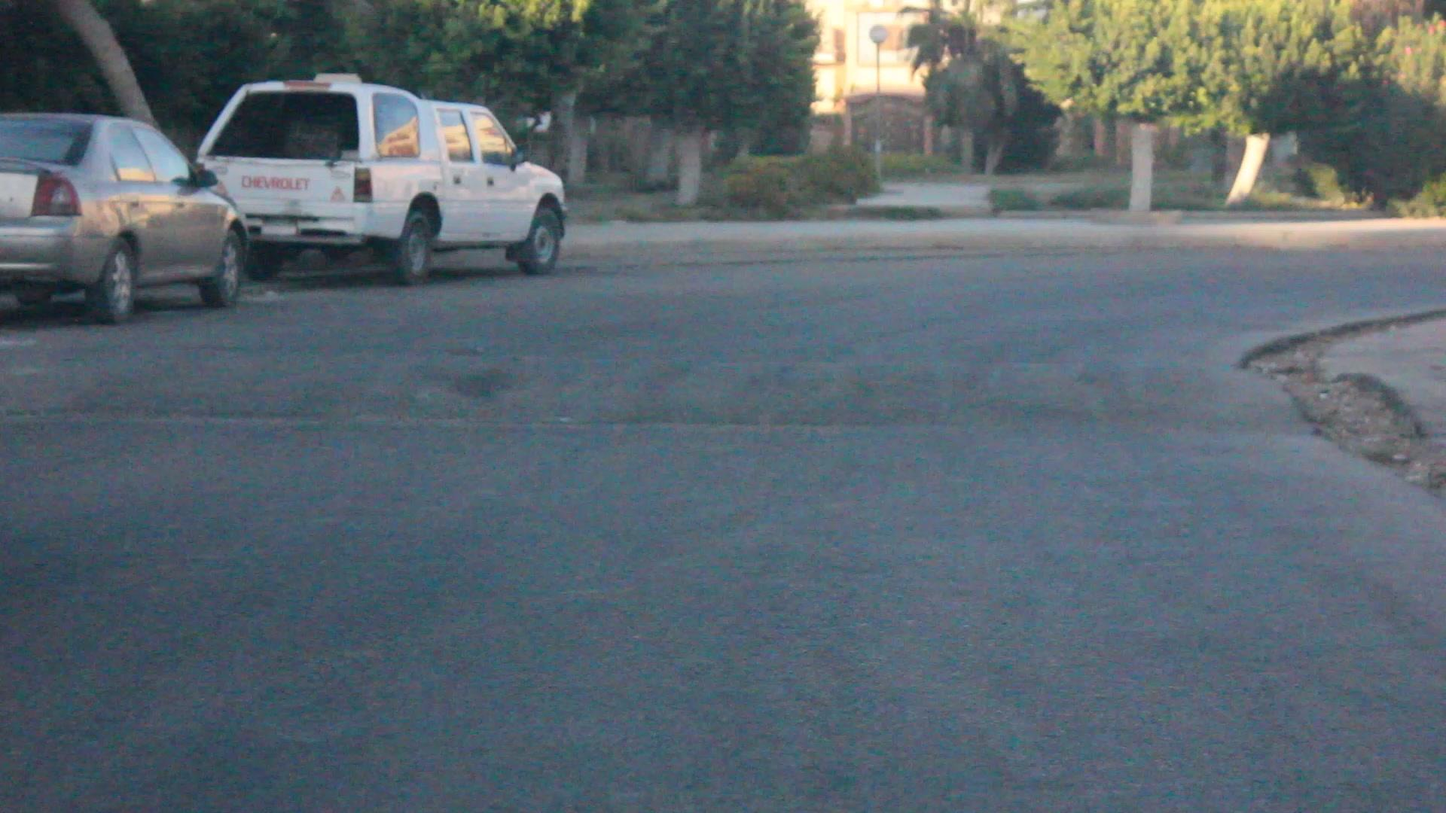Bump: (6, 333, 1318, 445)
